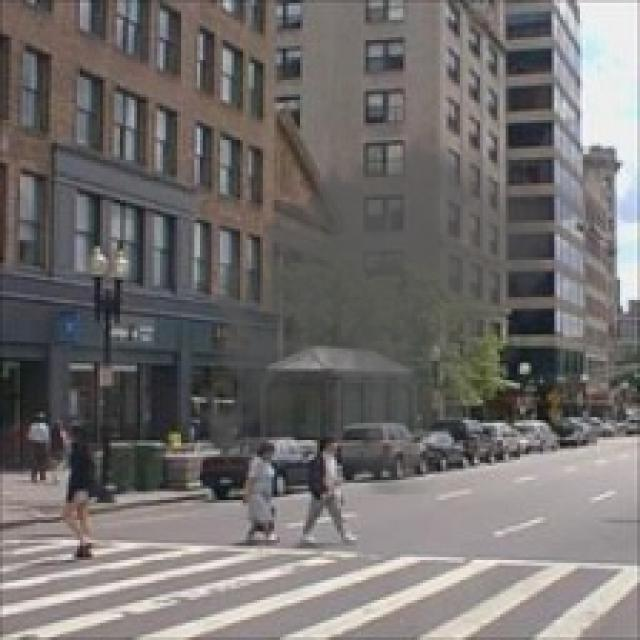Smoke: (188, 114, 560, 494)
